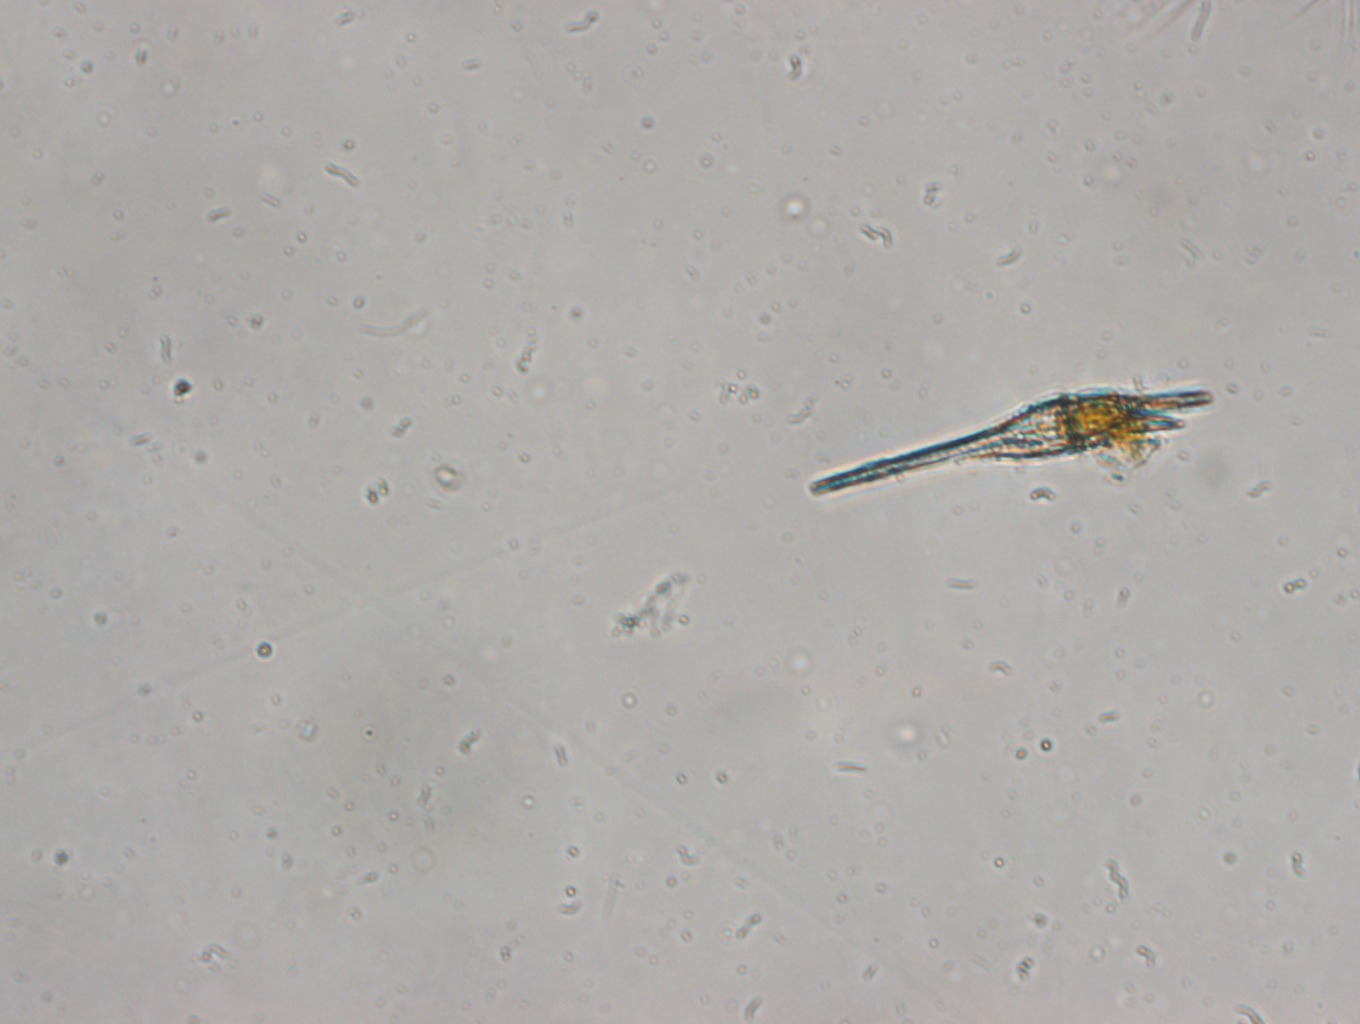ceratium furca: (798, 365, 1217, 502)
